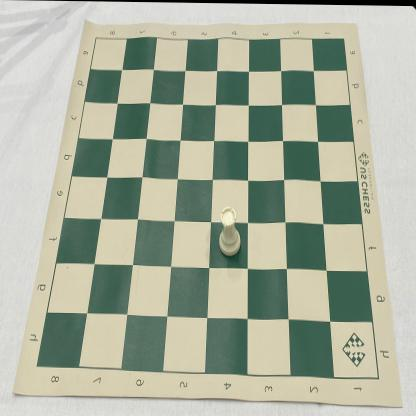white-rook: (218, 205, 240, 257)
